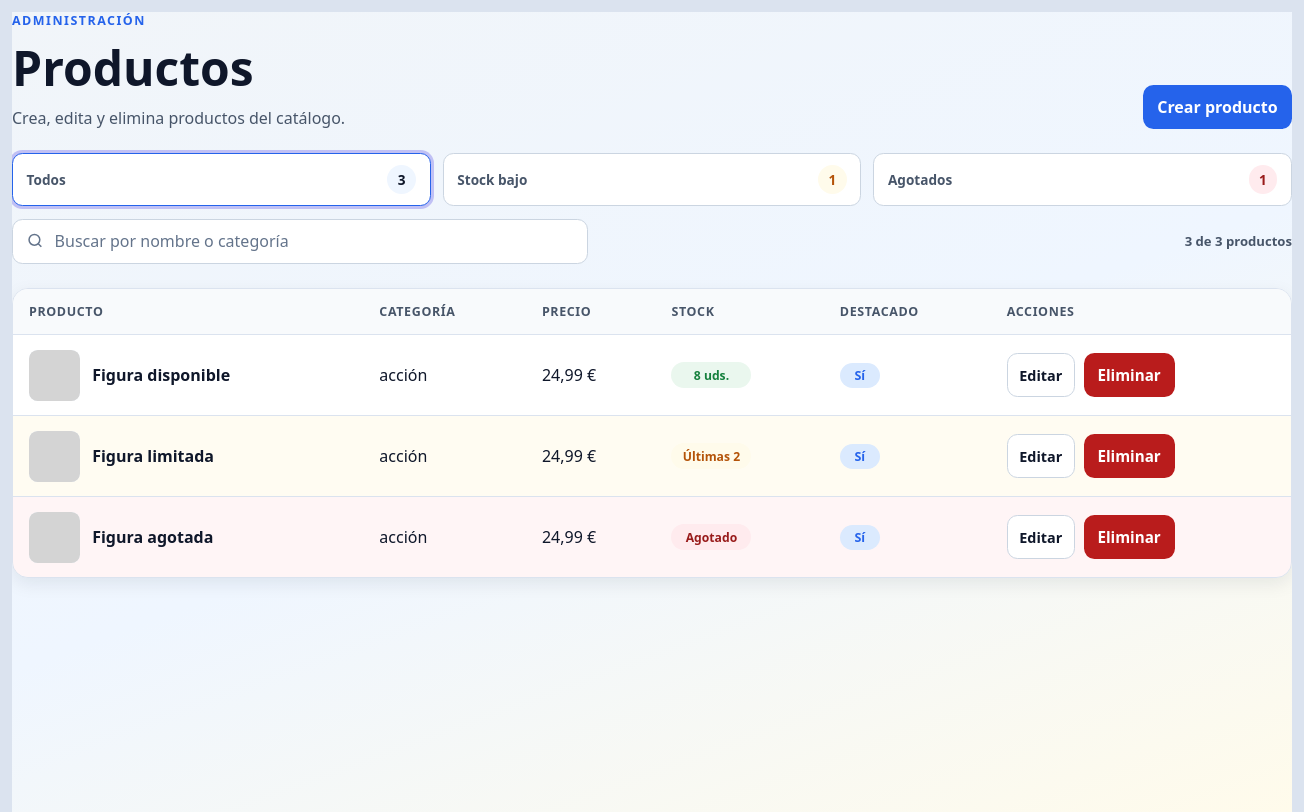
Test: AdminProductsPage › resume el inventario y permite filtrar productos con stock bajo o agotado
Expected: the button with aria-label "Productos agotados: 1" is shown, [873, 153, 1292, 206]
Expected: the text "Últimas 2" is shown, [672, 443, 752, 469]
Click the button with aria-label "Productos con stock bajo: 1" at [492, 179], box [443, 153, 861, 206]
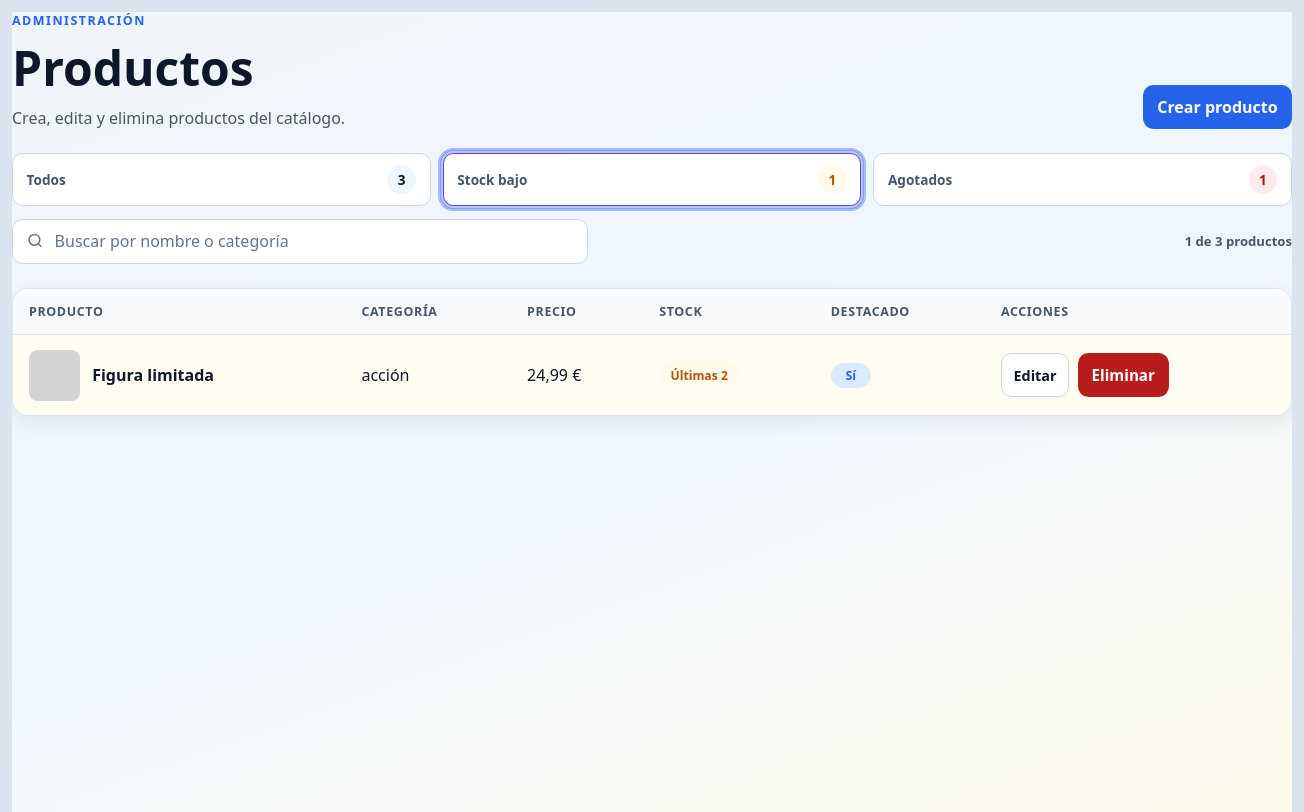
Expected: the text "Figura limitada" is shown, [92, 364, 214, 386]
Now the text "Figura disponible" is gone
Now the text "Figura agotada" is gone
Click the button with aria-label "Productos agotados: 1" at [920, 179], box [873, 153, 1292, 206]
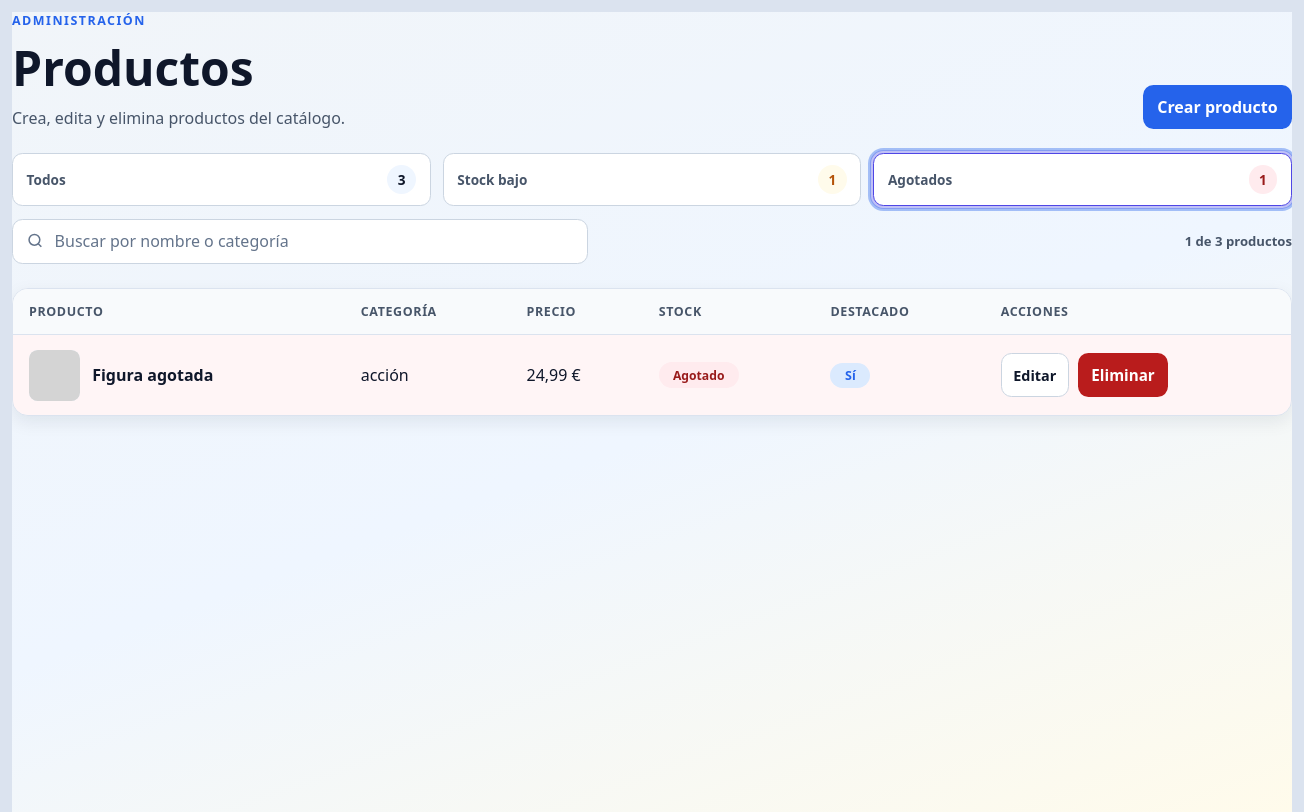
Now the text "Figura agotada" is shown, box [92, 364, 213, 386]
Now the text "Figura limitada" is gone
